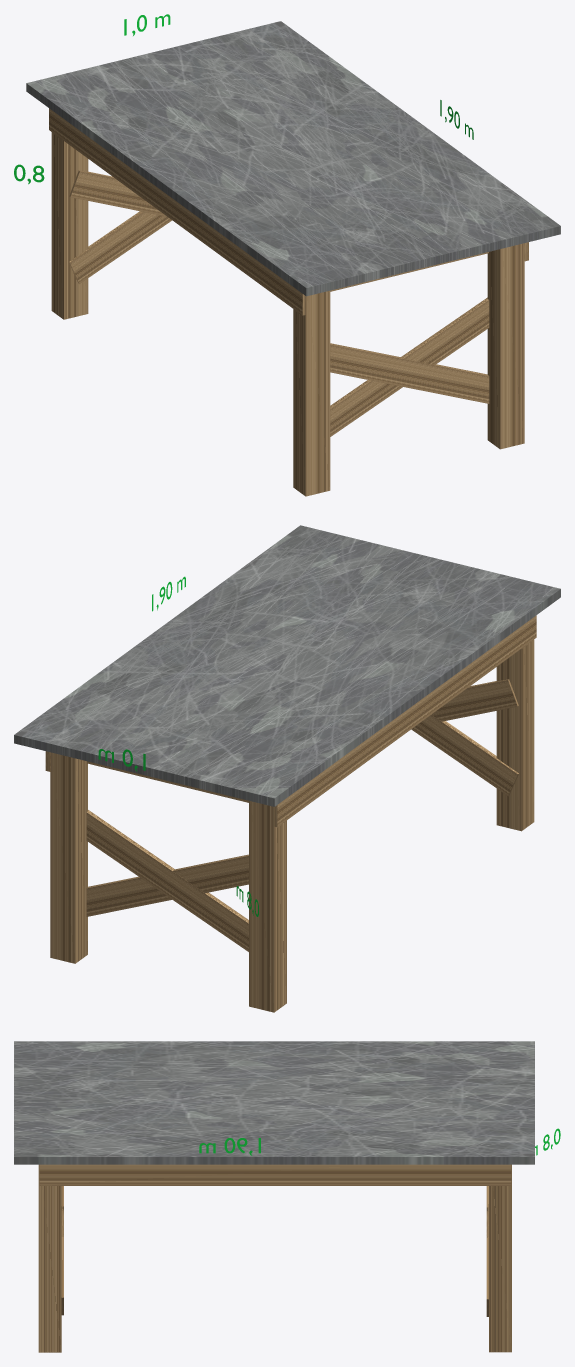
Rendered from workbench01.glb.
3 views of the same model, one above another, from view 1: azimuth 30°, elevation 25°; view 2: azimuth 150°, elevation 25°; view 3: azimuth 270°, elevation 25° (orthographic). The views are drawn at different scales.
Visible parts, largest first — view 1: Plane, Plane.001, Plane.003, Plane.012, Plane.007, Plane.005, Plane.006, Plane.010, Plane.011; view 2: Plane, Plane.008, Plane.007, Plane.012, Plane.003, Plane.010, Plane.011, Plane.006, Plane.005; view 3: Plane, Plane.013, Plane.001, Plane.008.
Boxes of the visible parts, box(x1,y1,x2,y2) form: Plane: box(26, 21, 560, 296); Plane.001: box(487, 243, 524, 449); Plane.003: box(293, 290, 330, 496); Plane.012: box(49, 108, 305, 315); Plane.007: box(51, 132, 88, 319); Plane.005: box(330, 343, 489, 403); Plane.006: box(330, 297, 489, 436); Plane.010: box(69, 211, 171, 283); Plane.011: box(69, 170, 166, 216); Plane: box(14, 525, 560, 806); Plane.008: box(50, 752, 87, 963); Plane.007: box(249, 801, 286, 1012); Plane.012: box(274, 615, 536, 827); Plane.003: box(496, 639, 534, 831); Plane.010: box(86, 810, 248, 951); Plane.011: box(86, 854, 248, 916); Plane.006: box(411, 714, 518, 795); Plane.005: box(431, 679, 518, 721); Plane: box(14, 1041, 534, 1164); Plane.013: box(39, 1164, 511, 1185); Plane.001: box(38, 1164, 61, 1352); Plane.008: box(489, 1164, 511, 1352).
Bounding box in the file's own units: 1.05 × 0.9306 × 2.
Materials: 3 (2 with a texture image).
